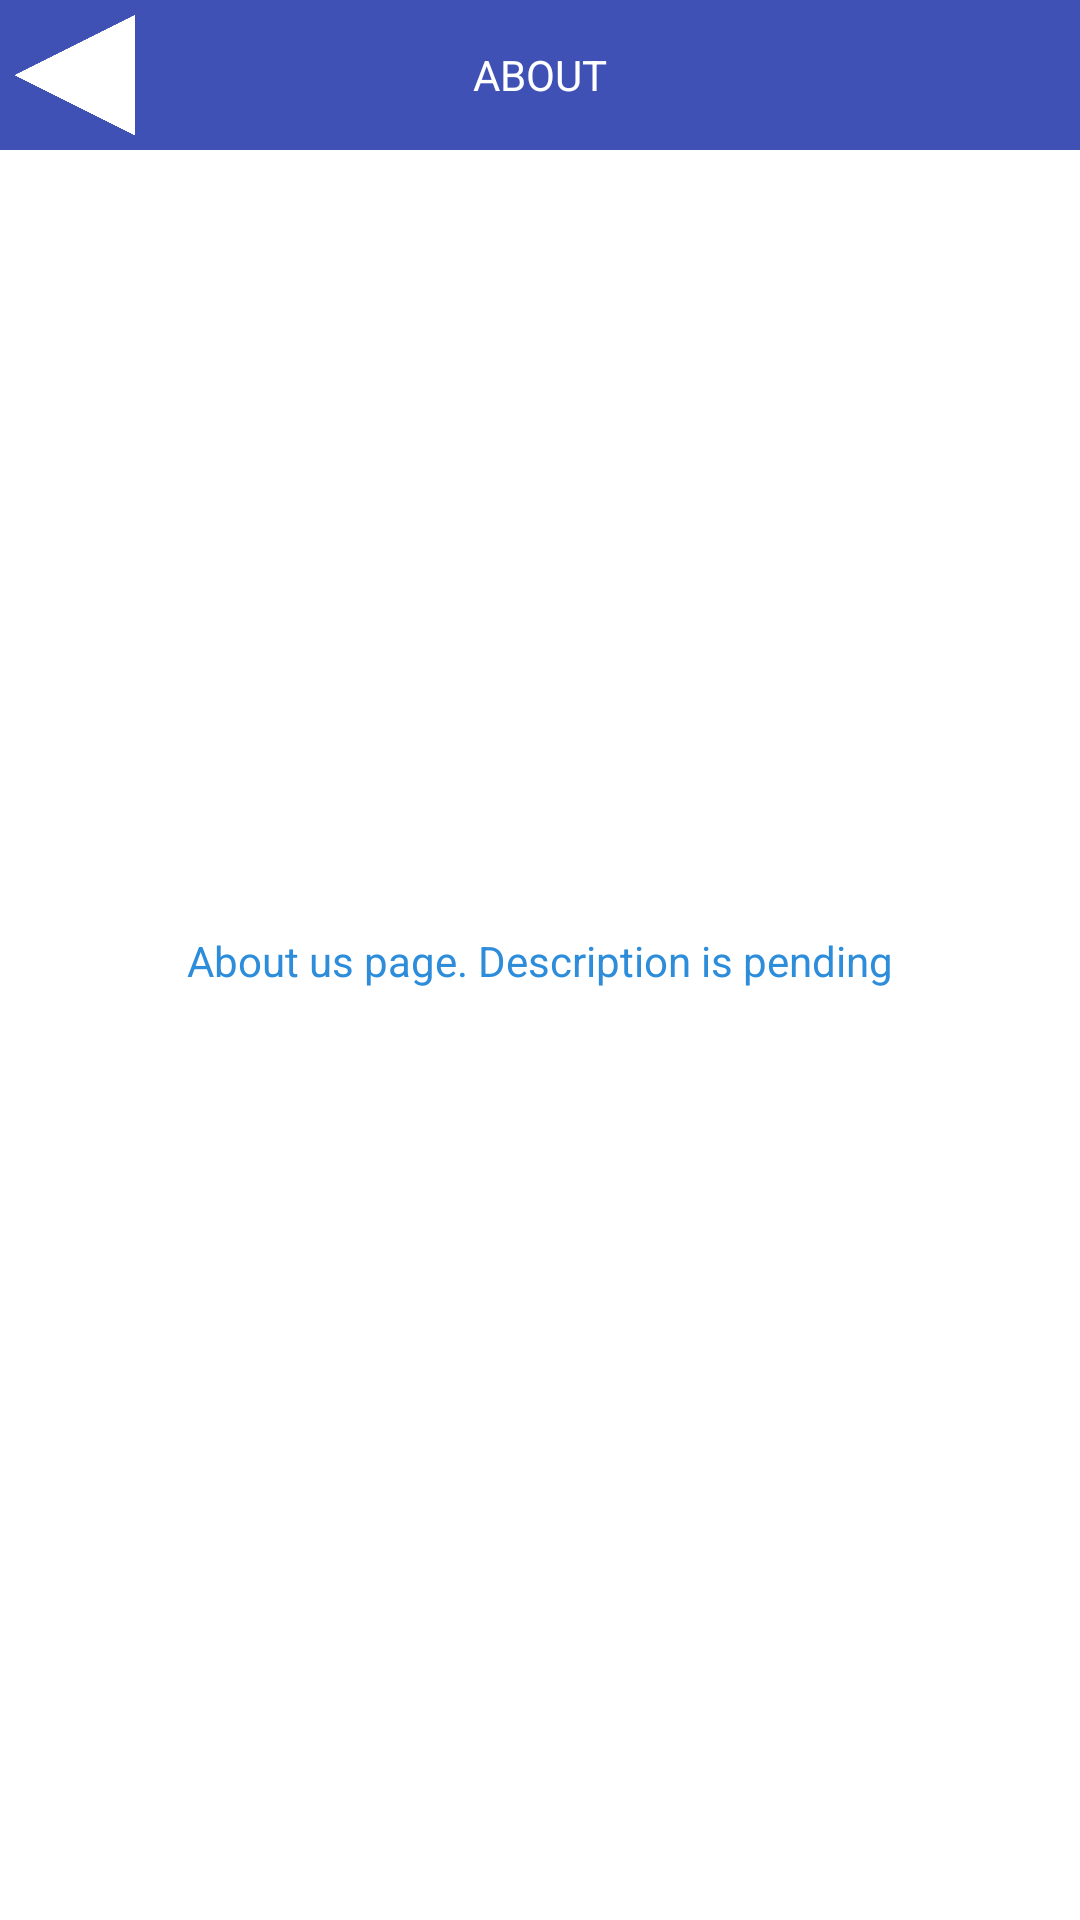

Where to tap for icons on this 1080 × 1920 app screen, as [x,y]:
backarrow: [75,75]
